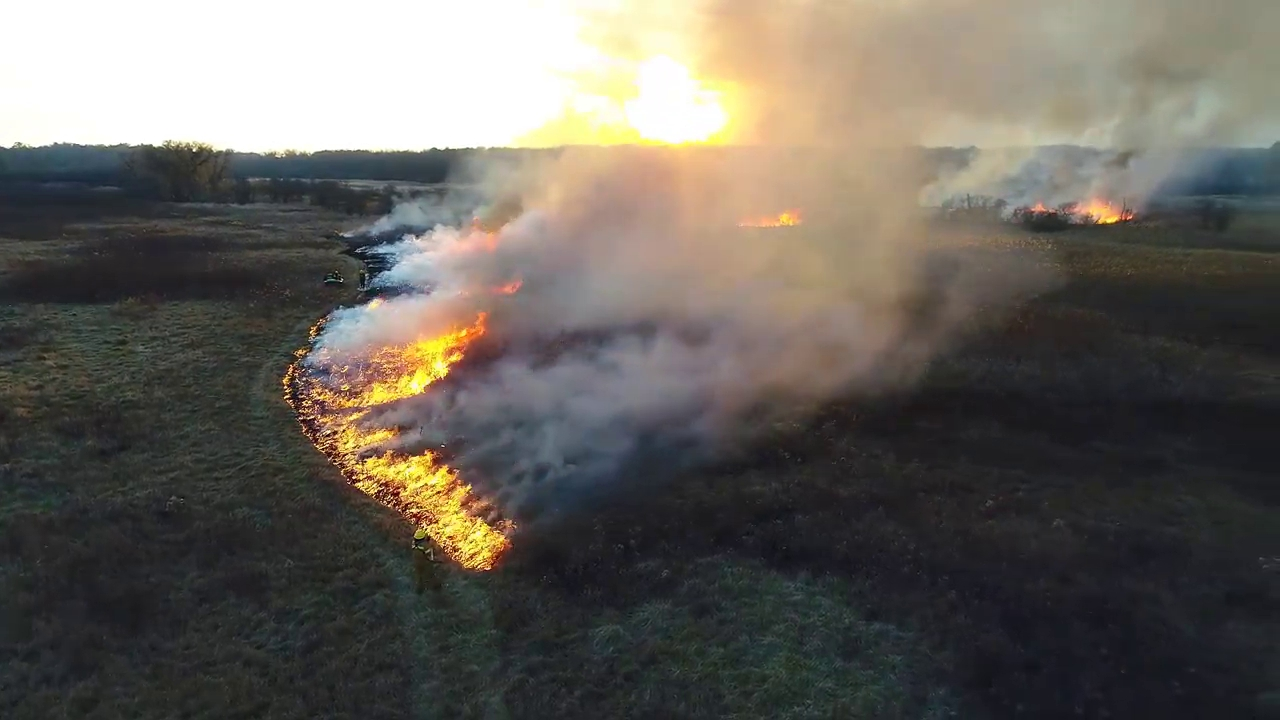forest_fire: (284, 312, 513, 570), (1019, 200, 1134, 227), (739, 211, 801, 228)
